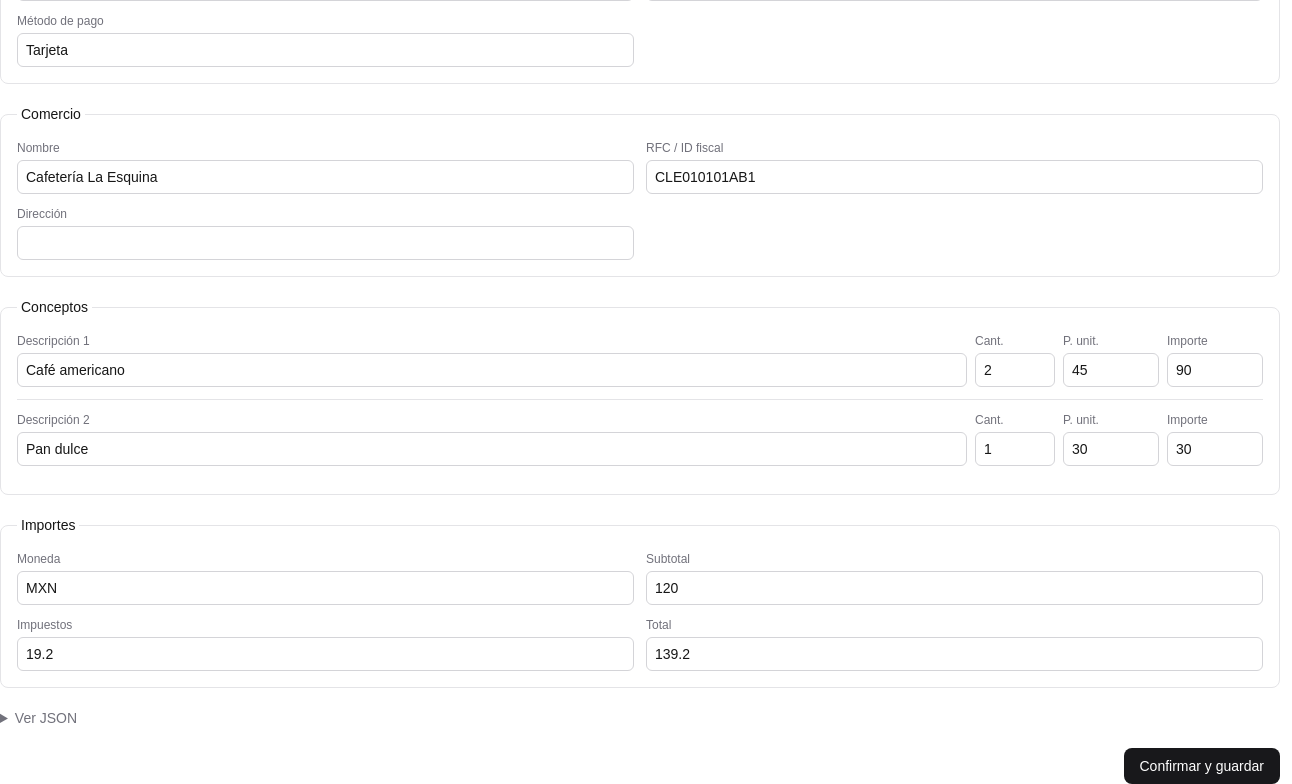
Scenario: DocumentForm › confirmar › muestra el error del servidor
(page scrolled)
Click the button "Confirmar y guardar".
click(1202, 766)  # box left=1124, top=748, right=1280, bottom=783
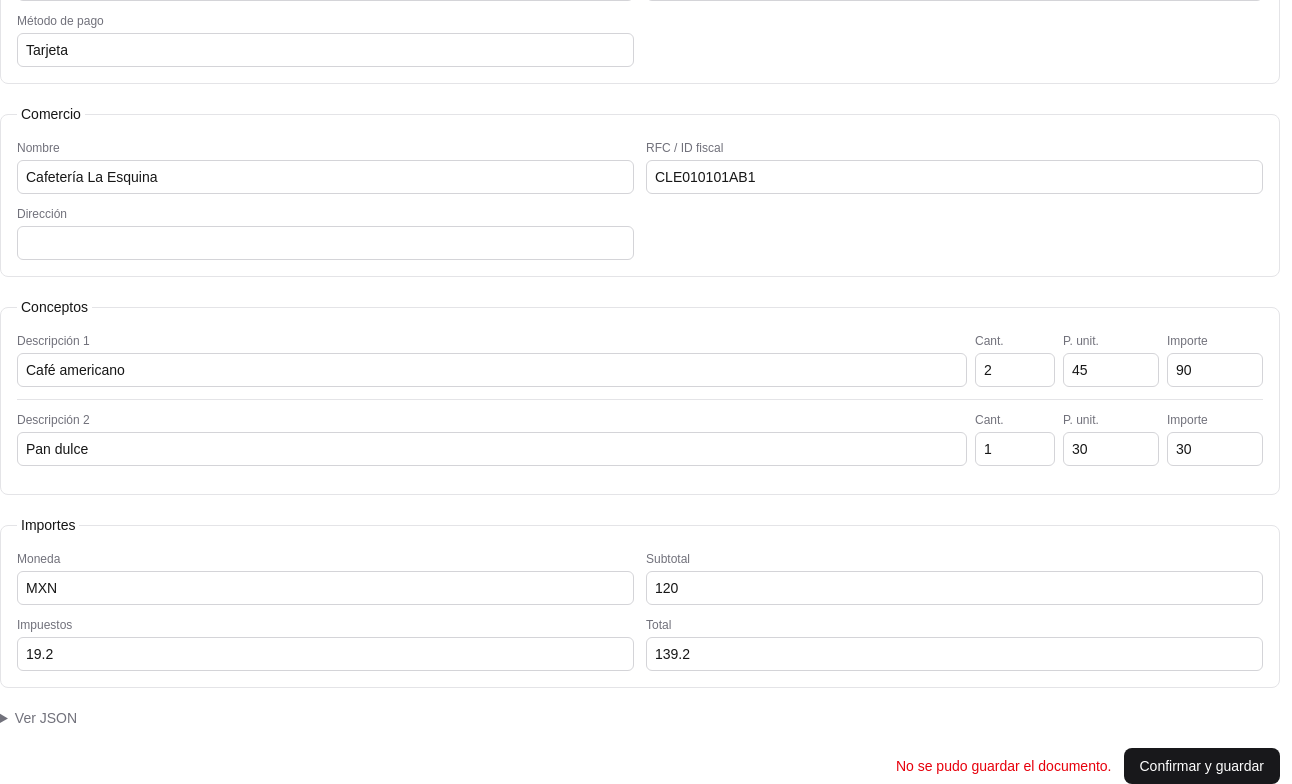
expect the text "No se pudo guardar el documento." is shown: met, box left=896, top=758, right=1112, bottom=774
